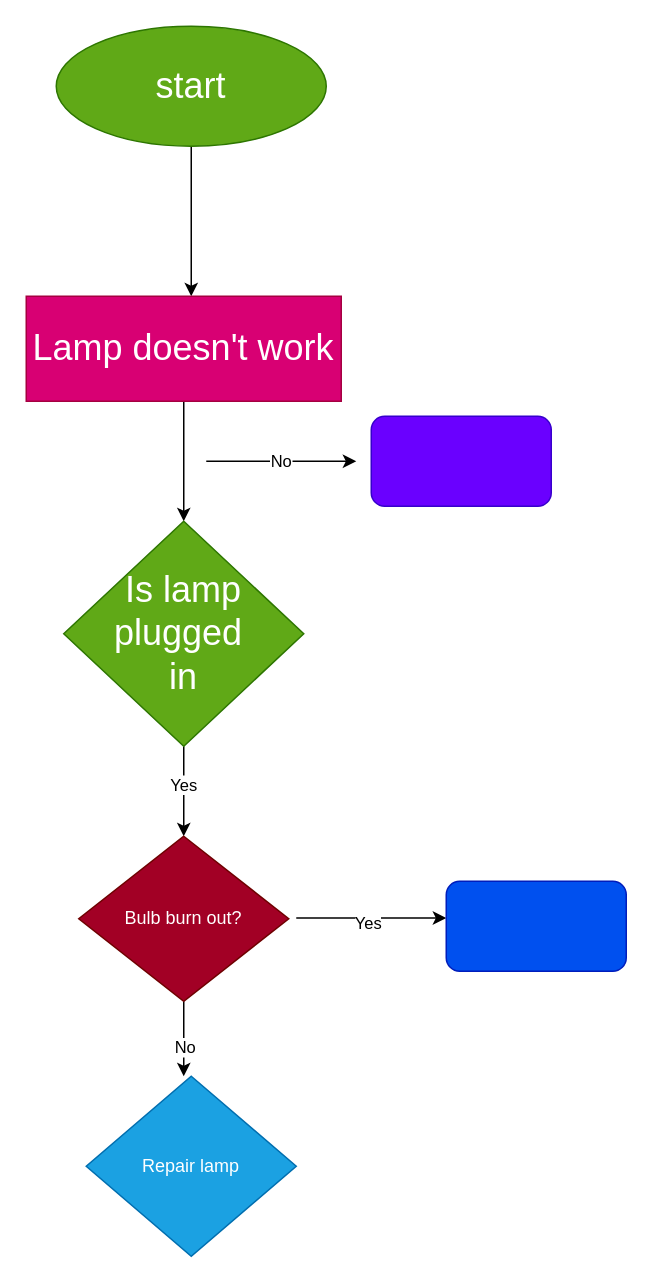
Image size: 653x1283. Some labels were removed from this diagram. Here are the shapes that lost their labels. From the top down, the box of each, then its label:
(370, 415, 551, 506): Plug in Bulb
(445, 880, 626, 971): Change lamp
